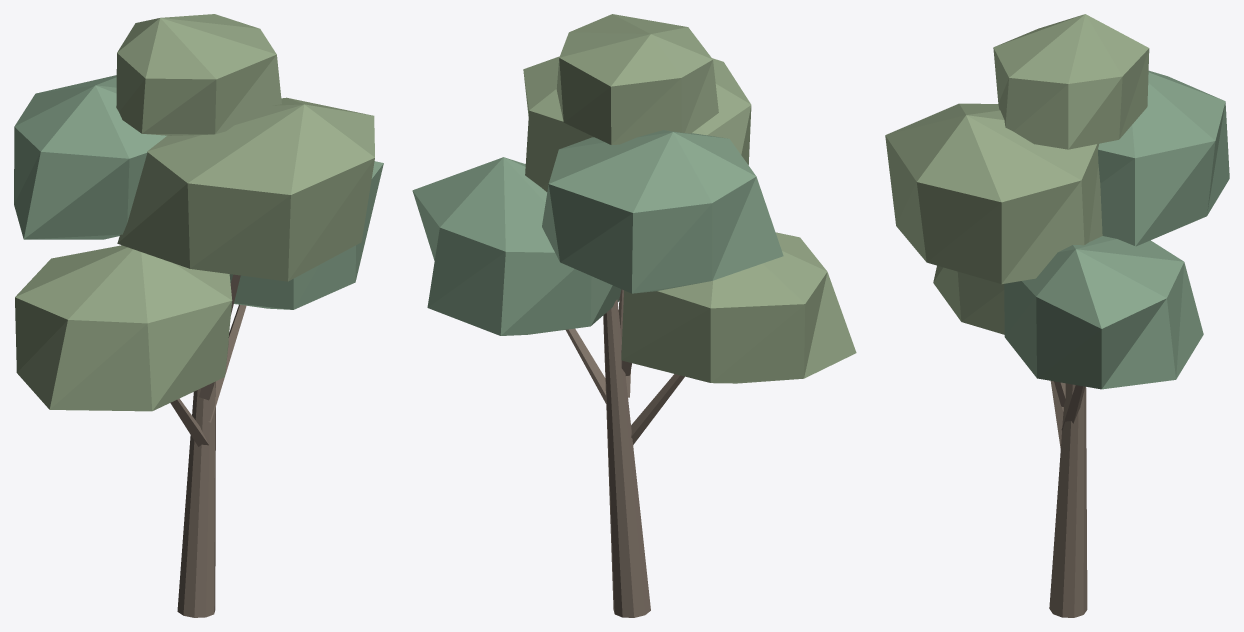
3 views of the same model, side by side, from view 1: azimuth 30°, elevation 25°; view 2: azimuth 150°, elevation 25°; view 3: azimuth 270°, elevation 25° (orthographic).
Bounding box in the file's own units: 13.27 × 19.29 × 10.33.
